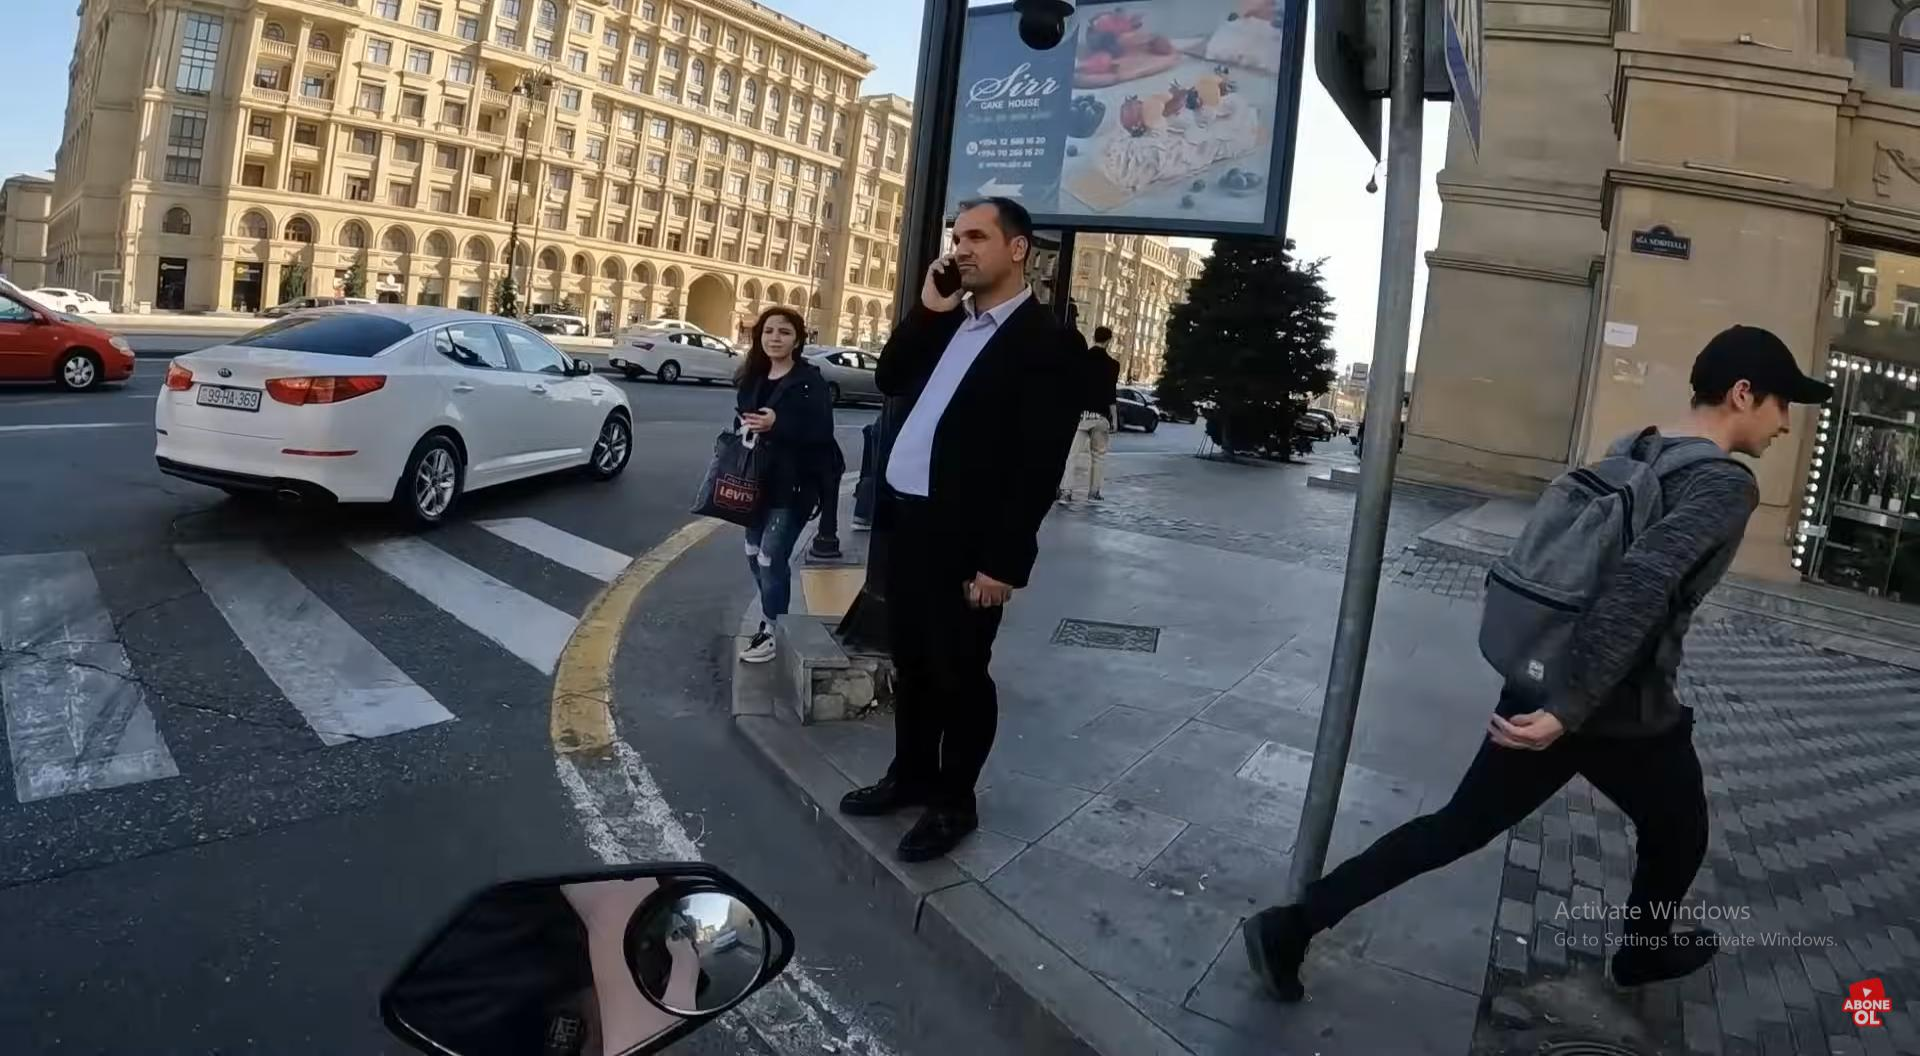banner: (946, 0, 1287, 228)
